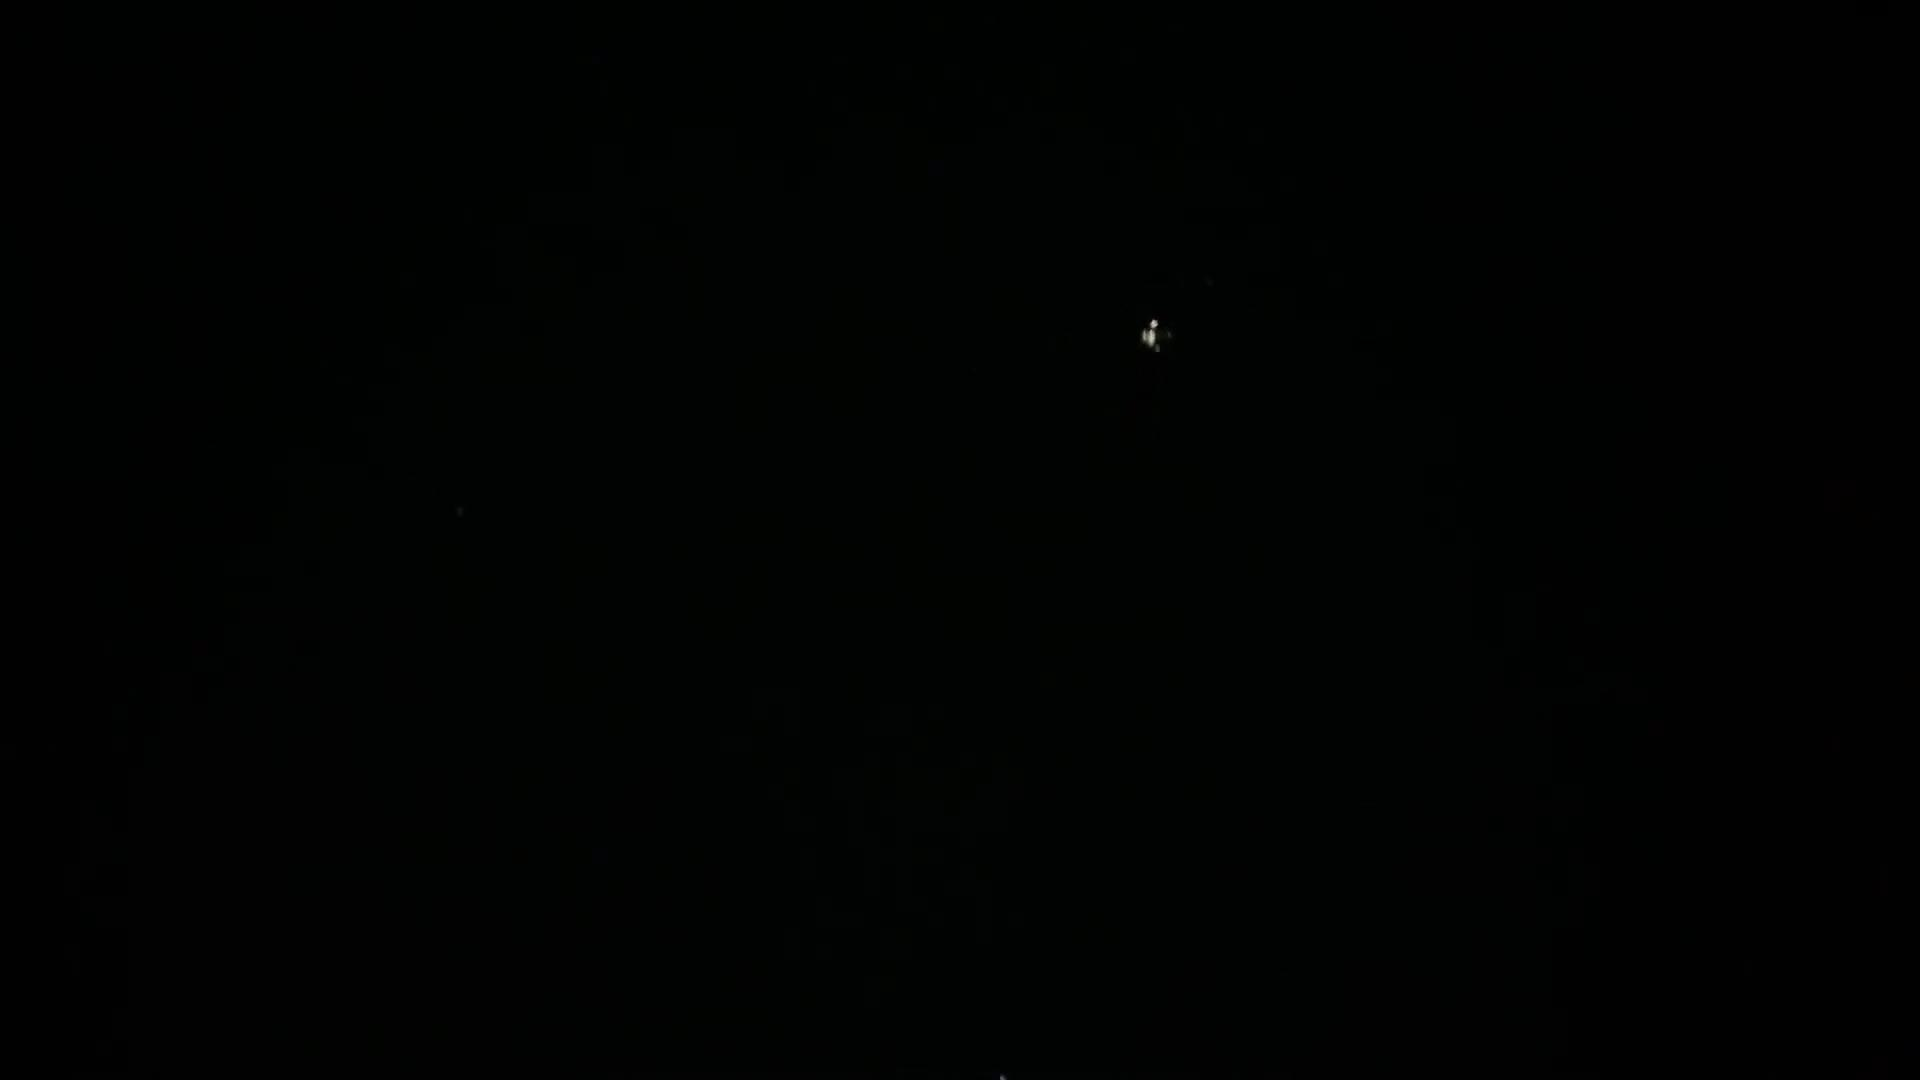Plane: (1122, 306, 1187, 367)
